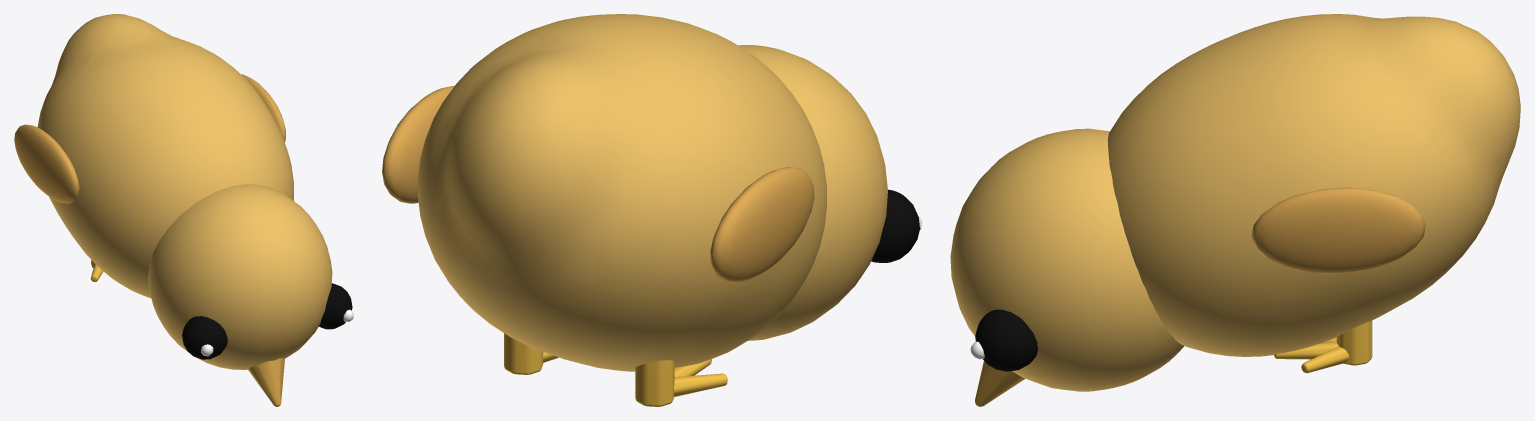
File: chick_peck.fbx
3 renders of one model, left to right at view 1: azimuth 30°, elevation 25°; view 2: azimuth 150°, elevation 25°; view 3: azimuth 270°, elevation 25°, orthographic. The views are drawn at different scales.
Visible parts, largest first — view 1: chick_peck; view 2: chick_peck; view 3: chick_peck.
Part boxes in pixels (x1=…): chick_peck: x1=14, y1=14, x2=353, y2=406; chick_peck: x1=382, y1=14, x2=921, y2=406; chick_peck: x1=950, y1=14, x2=1520, y2=406.
Bounding box in the file's own units: 0.1105 × 0.1255 × 0.1695.
